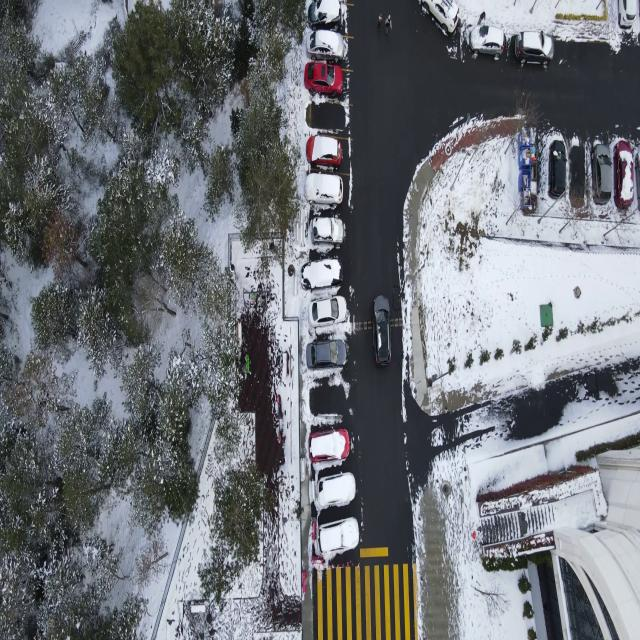p3rson: (384, 14, 392, 35), (477, 10, 485, 26), (378, 12, 382, 30)
